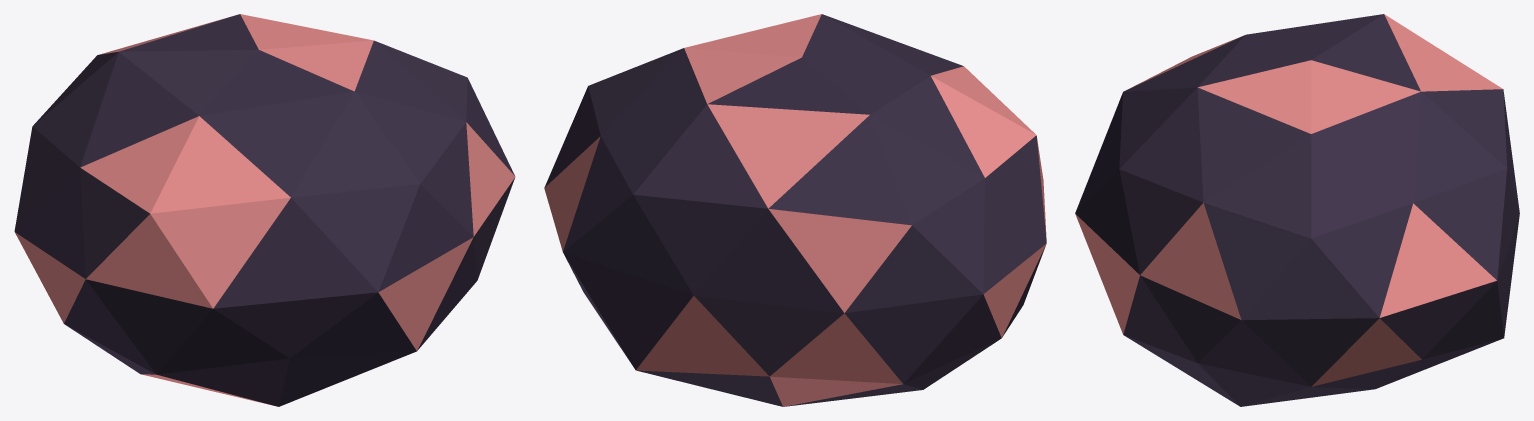
File: ember-rock.glb
3 views of the same model, side by side, from view 1: azimuth 30°, elevation 25°; view 2: azimuth 150°, elevation 25°; view 3: azimuth 270°, elevation 25° (orthographic). The views are drawn at different scales.
Parts seen in each view (by area): view 1: volcanic-ember-rock; view 2: volcanic-ember-rock; view 3: volcanic-ember-rock.
Part boxes in pixels (left/top/right/bottom): volcanic-ember-rock: left=14, top=14, right=515, bottom=406; volcanic-ember-rock: left=544, top=14, right=1046, bottom=406; volcanic-ember-rock: left=1075, top=14, right=1519, bottom=406.
Size of the model in its own units: 0.5684 by 0.392 by 0.5127.
